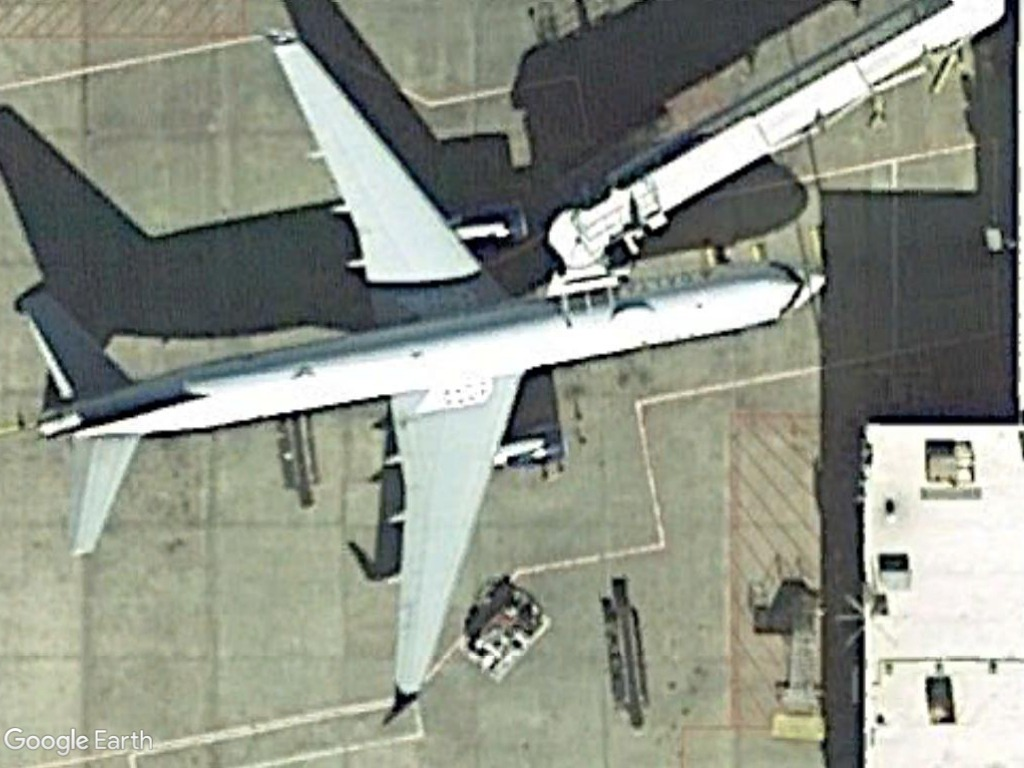airliner: (15, 21, 832, 731)
